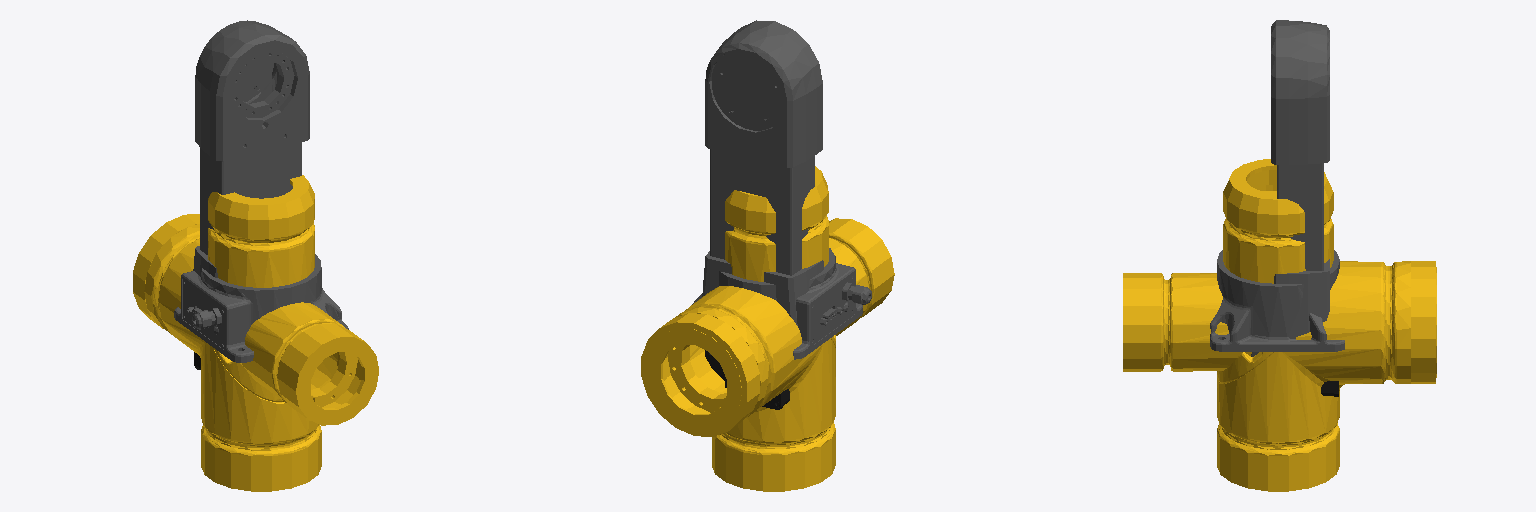
URDF robot description (A3C):
<?xml version="1.0" ?>
<robot name="A3C" xmlns:xacro="http://ros.org/wiki/xacro">
    <link name="base_link">
        <visual>
            <origin rpy="0 0 0" xyz="0 0 0" />
            <geometry>
                <mesh filename="package://robot_description/meshes/l0.stl" />
            </geometry>
            <material name="">
                <color rgba="0.4 0.4 0.4 1.0" />
            </material>
        </visual>
        <collision>
            <origin rpy="0 0 0" xyz="0 0 0" />
            <geometry>
                <mesh filename="package://robot_description/meshes/l0.stl" />
            </geometry>
        </collision>
        <inertial>
            <mass value="0.1" />
            <origin xyz="0 0 0" rpy="0 0 0" />
            <inertia ixx="0.03" iyy="0.03" izz="0.03" ixy="0.0" ixz="0.0" iyz="0.0" />
        </inertial>
    </link>
    <link name="link_1">
        <visual>
            <origin rpy="0 0 0" xyz="0 0 0" />
            <geometry>
                <mesh filename="package://robot_description/meshes/l1.stl" />
            </geometry>
            <material name="">
                <color rgba="0.96 0.76 0.13 1.0" />
            </material>
        </visual>
        <collision>
            <origin rpy="0 0 0" xyz="0 0 0" />
            <geometry>
                <mesh filename="package://robot_description/meshes/l1.stl" />
            </geometry>
        </collision>
        <inertial>
            <mass value="5.1" />
            <origin xyz="0.00000463 .04597 .065523" rpy="0 0 0" />
            <inertia ixx="30498.55" iyy="18651.954" izz="18651.95" ixy="-7.99" ixz="-10.33" iyz="-10913.84" />
        </inertial>
    </link>
    <link name="link_2">
        <visual>
            <origin rpy="0 0 0" xyz="0 0 0" />
            <geometry>
                <mesh filename="package://robot_description/meshes/l2.stl" />
            </geometry>
            <material name="">
                <color rgba="0.4 0.4 0.4 1.0" />
            </material>
        </visual>
        <collision>
            <origin rpy="0 0 0" xyz="0 0 0" />
            <geometry>
                <mesh filename="package://robot_description/meshes/l2.stl" />
            </geometry>
        </collision>
        <inertial>
            <mass value="1.36" />
            <origin xyz="0.1104 0 0.01661" rpy="0 0 0" />
            <inertia ixx="1658.64" iyy="13069" izz="14101" ixy="0" ixz="-39.958" iyz="0.0" />
        </inertial>
    </link>
    <link name="link_3">
        <visual>
            <origin rpy="0 0 0" xyz="0 0 0" />
            <geometry>
                <mesh filename="package://robot_description/meshes/l3.stl" />
            </geometry>
            <material name="">
                <color rgba="0.96 0.76 0.13 1.0" />
            </material>
        </visual>
        <collision>
            <origin rpy="0 0 0" xyz="0 0 0" />
            <geometry>
                <mesh filename="package://robot_description/meshes/l3.stl" />
            </geometry>
        </collision>
        <inertial>
            <mass value="3.319" />
            <origin xyz="0.00007798 -.03574 -0.0632725" rpy="0 0 0" />
            <inertia ixx="17921" iyy="11307" izz="10111" ixy="19.58" ixz="25.03" iyz="-6255" />
        </inertial>
    </link>
    <link name="link_4">
        <visual>
            <origin rpy="0 0 0" xyz="0 0 0" />
            <geometry>
                <mesh filename="package://robot_description/meshes/l4.stl" />
            </geometry>
            <material name="">
                <color rgba="0.4 0.4 0.4 1.0" />
            </material>
        </visual>
        <collision>
            <origin rpy="0 0 0" xyz="0 0 0" />
            <geometry>
                <mesh filename="package://robot_description/meshes/l4.stl" />
            </geometry>
        </collision>
        <inertial>
            <mass value="0.508" />
            <origin xyz="-0.0000176 -.005787 -.04962" rpy="0 0 0" />
            <inertia ixx="1041.6" iyy="1147" izz="490.056" ixy="0.63303" ixz="1.6942" iyz="-126.61" />
        </inertial>
    </link>
    <link name="link_5">
        <visual>
            <origin rpy="0 0 0" xyz="0 0 0" />
            <geometry>
                <mesh filename="package://robot_description/meshes/l5.stl" />
            </geometry>
            <material name="">
                <color rgba="0.96 0.76 0.13 1.0" />
            </material>
        </visual>
        <collision>
            <origin rpy="0 0 0" xyz="0 0 0" />
            <geometry>
                <mesh filename="package://robot_description/meshes/l5.stl" />
            </geometry>
        </collision>
        <inertial>
            <mass value="2.49617" />
            <origin xyz="0.0000127 -0.04124 0.06976" rpy="0 0 0" />
            <inertia ixx="12154" iyy="7124" izz="7121" ixy="-16.3" ixz="13.5" iyz="4268" />
        </inertial>
    </link>
    <link name="link_6">
        <visual>
            <origin rpy="0 0 0" xyz="0 0 0" />
            <geometry>
                <mesh filename="package://robot_description/meshes/l6.stl" />
            </geometry>
            <material name="">
                <color rgba="0.15 0.15 0.15 1.0" />
            </material>
        </visual>
        <collision>
            <origin rpy="0 0 0" xyz="0 0 0" />
            <geometry>
                <mesh filename="package://robot_description/meshes/l6.stl" />
            </geometry>
        </collision>
        <inertial>
            <mass value="0.5" />
            <origin xyz="0.000214 -0.00406 .02902" rpy="0 0 0" />
            <inertia ixx="352.796" iyy="341.516" izz="518.422" ixy="0.03125" ixz="0.7269" iyz="-17.2391" />
        </inertial>
    </link>
    
    <joint name="joint_1" type="revolute">
        <origin rpy="0 0 0" xyz="0 0 0.1915" />
        <parent link="base_link" />
        <child link="link_1" />
        <axis xyz="0 0 1" />
        <dynamics damping="4.7" friction="26.6"/>  
        <limit effort="30" lower="-3.14" upper="3.14" velocity="2.617" /> 
    </joint>
    <joint name="joint_2" type="revolute">
        <origin rpy="-1.57 -1.57 0" xyz="0 0.141 0" />
        <parent link="link_1" />
        <child link="link_2" />
        <axis xyz="0 0 1" />
        <dynamics damping="4.7" friction="26.6"/>  
        <limit effort="30" lower="-2.61" upper="2.61" velocity="2.61" /> 
    </joint>
    <joint name="joint_3" type="revolute">
        <origin rpy="0 0 0" xyz="0.230 0 -0.1415" />
        <parent link="link_2" />
        <child link="link_3" />
        <axis xyz="0 0 1" />
        <dynamics damping="1.31" friction="13.8"/>  
        <limit effort="30" lower="-2.61" upper="2.61" velocity="3.141" /> 
    </joint>
    <joint name="joint_4" type="revolute">
        <origin rpy="1.57 0 1.57" xyz="0.230 0.0 0.0" />
        <parent link="link_3" />
        <child link="link_4" />
        <axis xyz="0 0 1" />
        <dynamics damping="1.01" friction="7"/> 
        <limit effort="30" lower="-3.14" upper="3.14" velocity="3.141" /> 
    </joint>
    <joint name="joint_5" type="revolute">
        <origin rpy="-1.57 0 0" xyz="0.0 0.1635 0.0" />
        <parent link="link_4" />
        <child link="link_5" />
        <axis xyz="0 0 1" />
        <dynamics damping="1.01" friction="7"/>  
        <limit effort="30" lower="-3.14" upper="3.14" velocity="3.141" /> 
    </joint>
    <joint name="joint_6" type="revolute">
        <origin rpy="1.57 -1.57 0" xyz="0 -0.166 0" />
        <parent link="link_5" />
        <child link="link_6" />
        <axis xyz="0 0 1" />
        <dynamics damping="1.01" friction="7"/> 
        <limit effort="30" lower="-3.14" upper="3.14" velocity="3.141" /> 
    </joint>
    <link name="tool0" />
    <joint name="joint_6-tool0" type="fixed">
        <origin rpy="0 0 0" xyz="0 0 0" />
        <parent link="link_6" />
        <child link="tool0" />
    </joint>
    <link name="base" />
    <joint name="base_link-base" type="fixed">
        <origin rpy="0 0 0" xyz="0 0 0" />
        <parent link="base" />
        <child link="base_link" />
    </joint>
  <gazebo reference="base">
  <material>Gazebo/DarkGrey</material>
  </gazebo>
  <gazebo reference="link_1">
    <material>Gazebo/Orange</material>
  </gazebo>
  <gazebo reference="link_2">
    <material>Gazebo/DarkGrey</material>
  </gazebo>
  <gazebo reference="link_3">
    <material>Gazebo/Orange</material>
  </gazebo>
  <gazebo reference="link_4">
    <material>Gazebo/DarkGrey</material>
  </gazebo>
  <gazebo reference="link_5">
    <material>Gazebo/Orange</material>
  </gazebo>
  <gazebo reference="link_6">
    <material>Gazebo/DarkGrey</material>
  </gazebo>
    
</robot>

--- Facts derived from the render (not from the file) ---
3 views of the same robot in one strip: view 1: azimuth 30°, elevation 25°; view 2: azimuth 150°, elevation 25°; view 3: azimuth 270°, elevation 25° (orthographic).
Robot: A3C — 9 links, 8 joints (6 revolute, 2 fixed); root link base; default pose: all joints at 0.
Visible links, largest first — view 1: link_2, link_1, link_5, link_3, base_link; view 2: link_2, link_1, link_3, base_link, link_5, link_6; view 3: link_1, link_2, link_5, link_3, base_link.
Boxes of the visible links, x1,y1,x2,y2 form: link_2: (193, 20, 309, 277); link_1: (133, 214, 321, 491); link_5: (242, 302, 378, 425); link_3: (208, 175, 314, 287); base_link: (174, 254, 348, 362); link_2: (702, 20, 823, 325); link_1: (641, 286, 835, 491); link_3: (646, 166, 828, 430); base_link: (692, 248, 871, 359); link_5: (829, 218, 894, 335); link_6: (705, 350, 789, 409); link_1: (1217, 261, 1435, 491); link_2: (1271, 20, 1329, 338); link_5: (1123, 185, 1272, 371); link_3: (1223, 159, 1436, 377); base_link: (1210, 250, 1344, 351).
Size in the robot's own frame: 137 by 264 by 409 metres.
Meshes: 7 distinct files referenced, 7 mesh visuals loaded (7 binary STL).